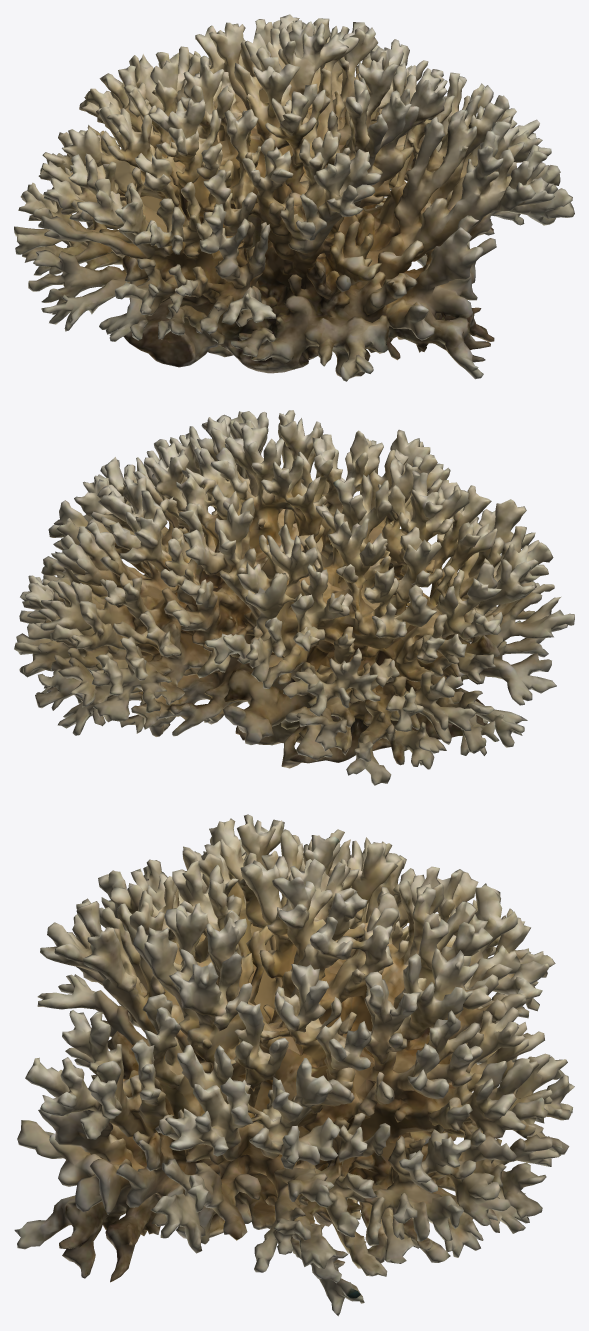
Rendered from coral pocillopora.glb.
3 renders of one model, top to bottom at view 1: azimuth 30°, elevation 25°; view 2: azimuth 150°, elevation 25°; view 3: azimuth 270°, elevation 25°, orthographic. The views are drawn at different scales.
Visible parts, largest first — view 1: Object_4, Object_5; view 2: Object_4, Object_5; view 3: Object_4, Object_5.
Part boxes in pixels (box(x1,y1,x2,y2)): Object_4: box(14, 14, 553, 381); Object_5: box(28, 95, 574, 379); Object_4: box(14, 410, 574, 785); Object_5: box(27, 429, 538, 755); Object_4: box(17, 814, 572, 1316); Object_5: box(14, 839, 574, 1303).
Size of the model in its own units: 0.2388 by 0.1427 by 0.2002.
Materials: 1 (1 with a texture image).
